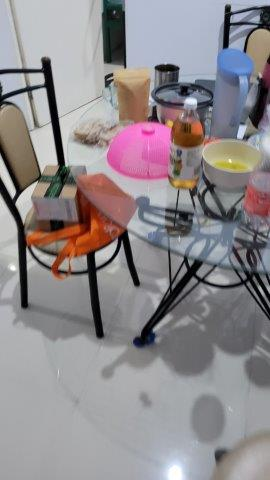plastik: (68, 114, 132, 148)
